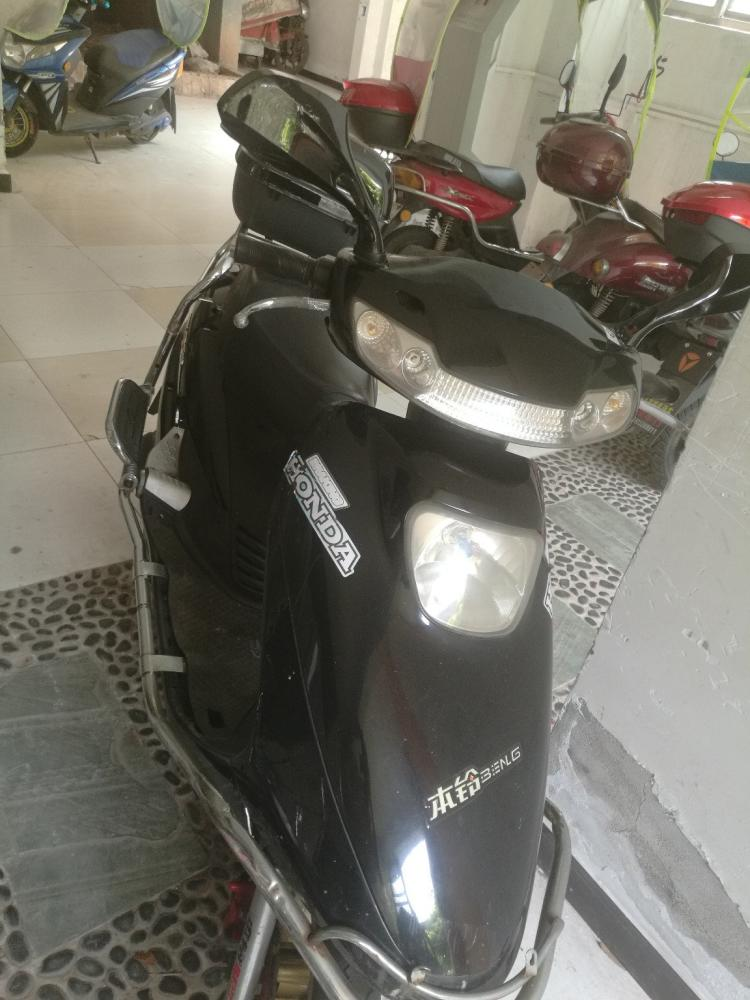电动车: (111, 70, 726, 1000), (7, 1, 195, 157)
